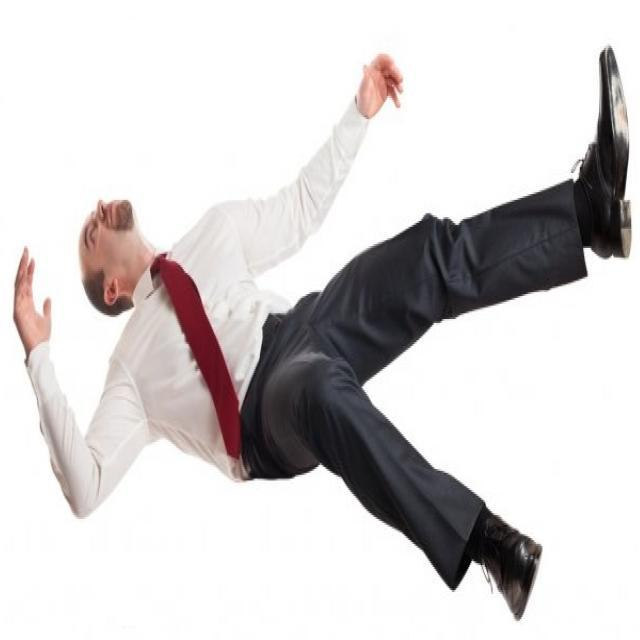NotFall: (0, 23, 640, 627)
